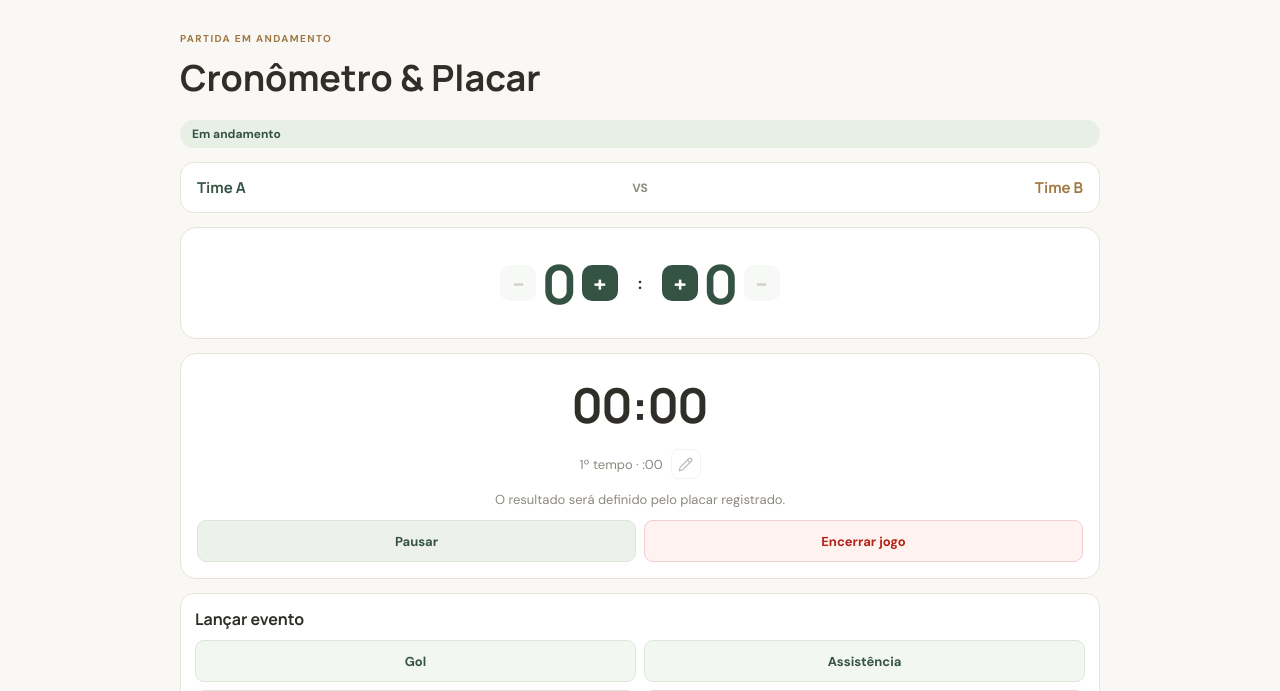
Test: Correções de jogo e histórico › encerra um empate sem exigir a seleção de vencedor
The image size is (1280, 691).
Click the button "Encerrar jogo". click: (864,541)
box: [644,520,1083,562]
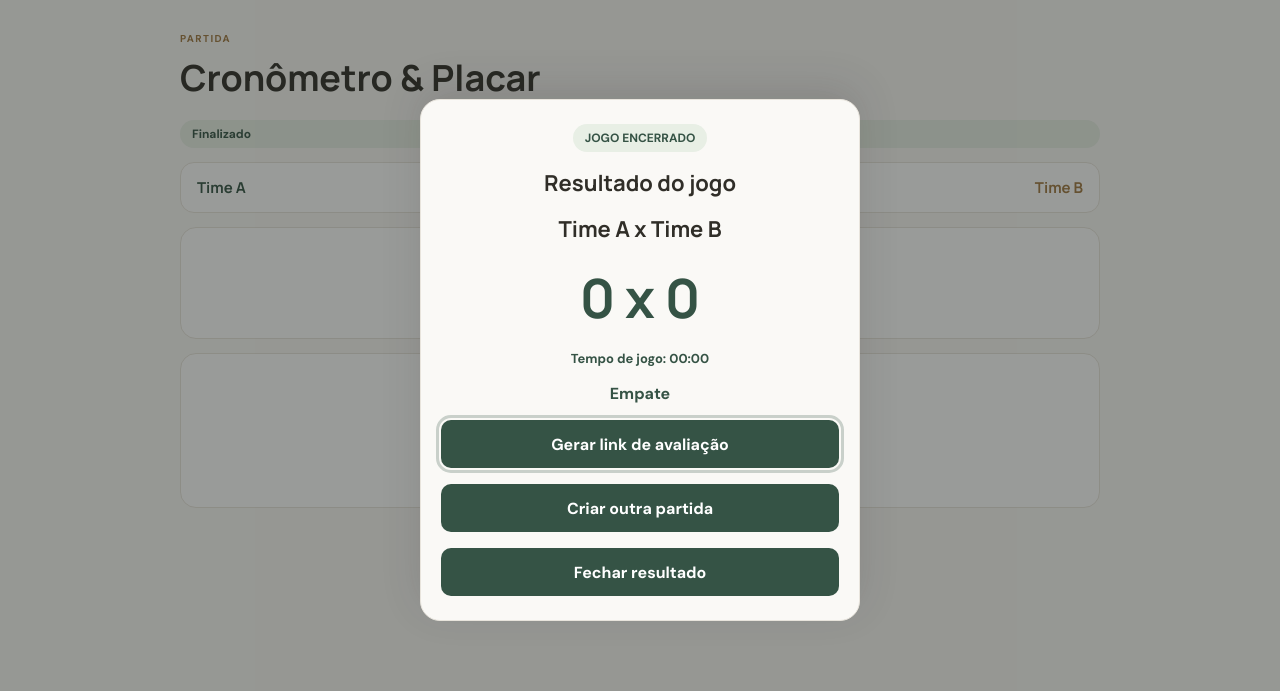
Result: the text "Empate" is shown at [610,383,670,404]
